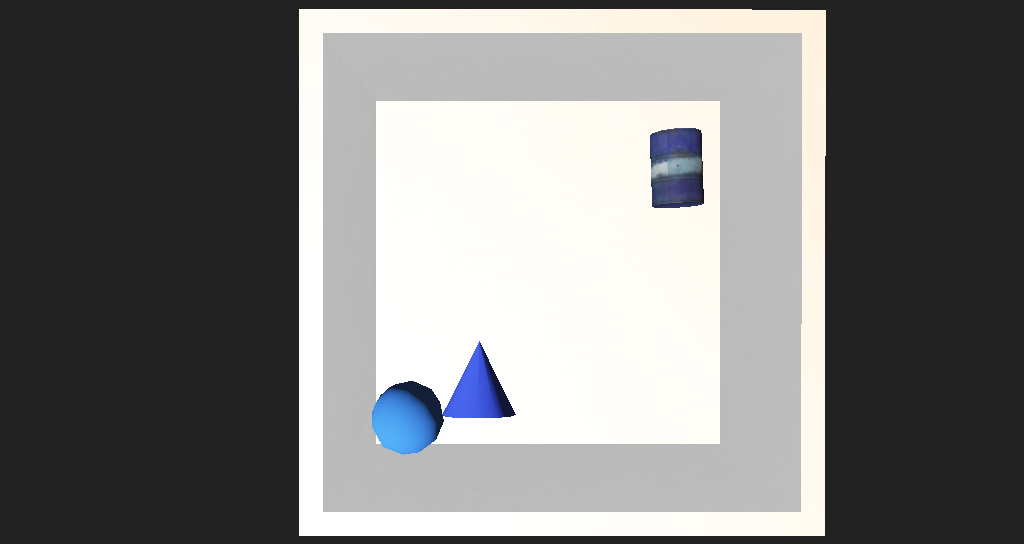cone: (593, 179, 647, 231)
cylinder: (414, 305, 475, 363)
sphere: (354, 334, 414, 382)
